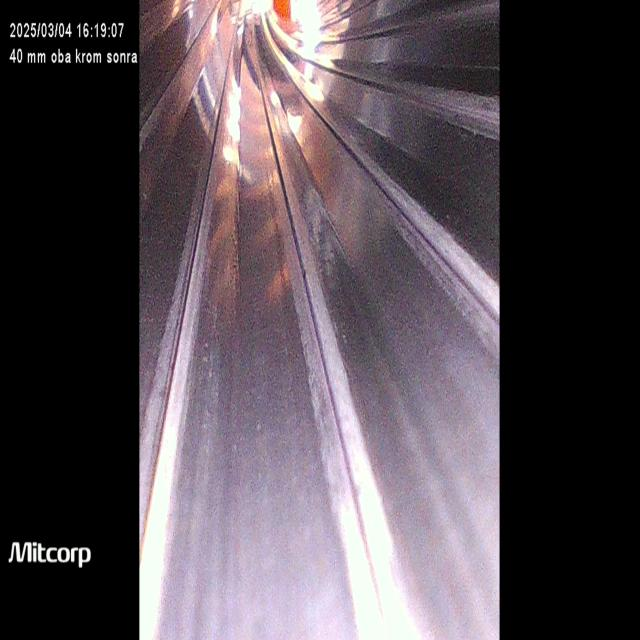hata_8.1: (284, 167, 368, 339)
